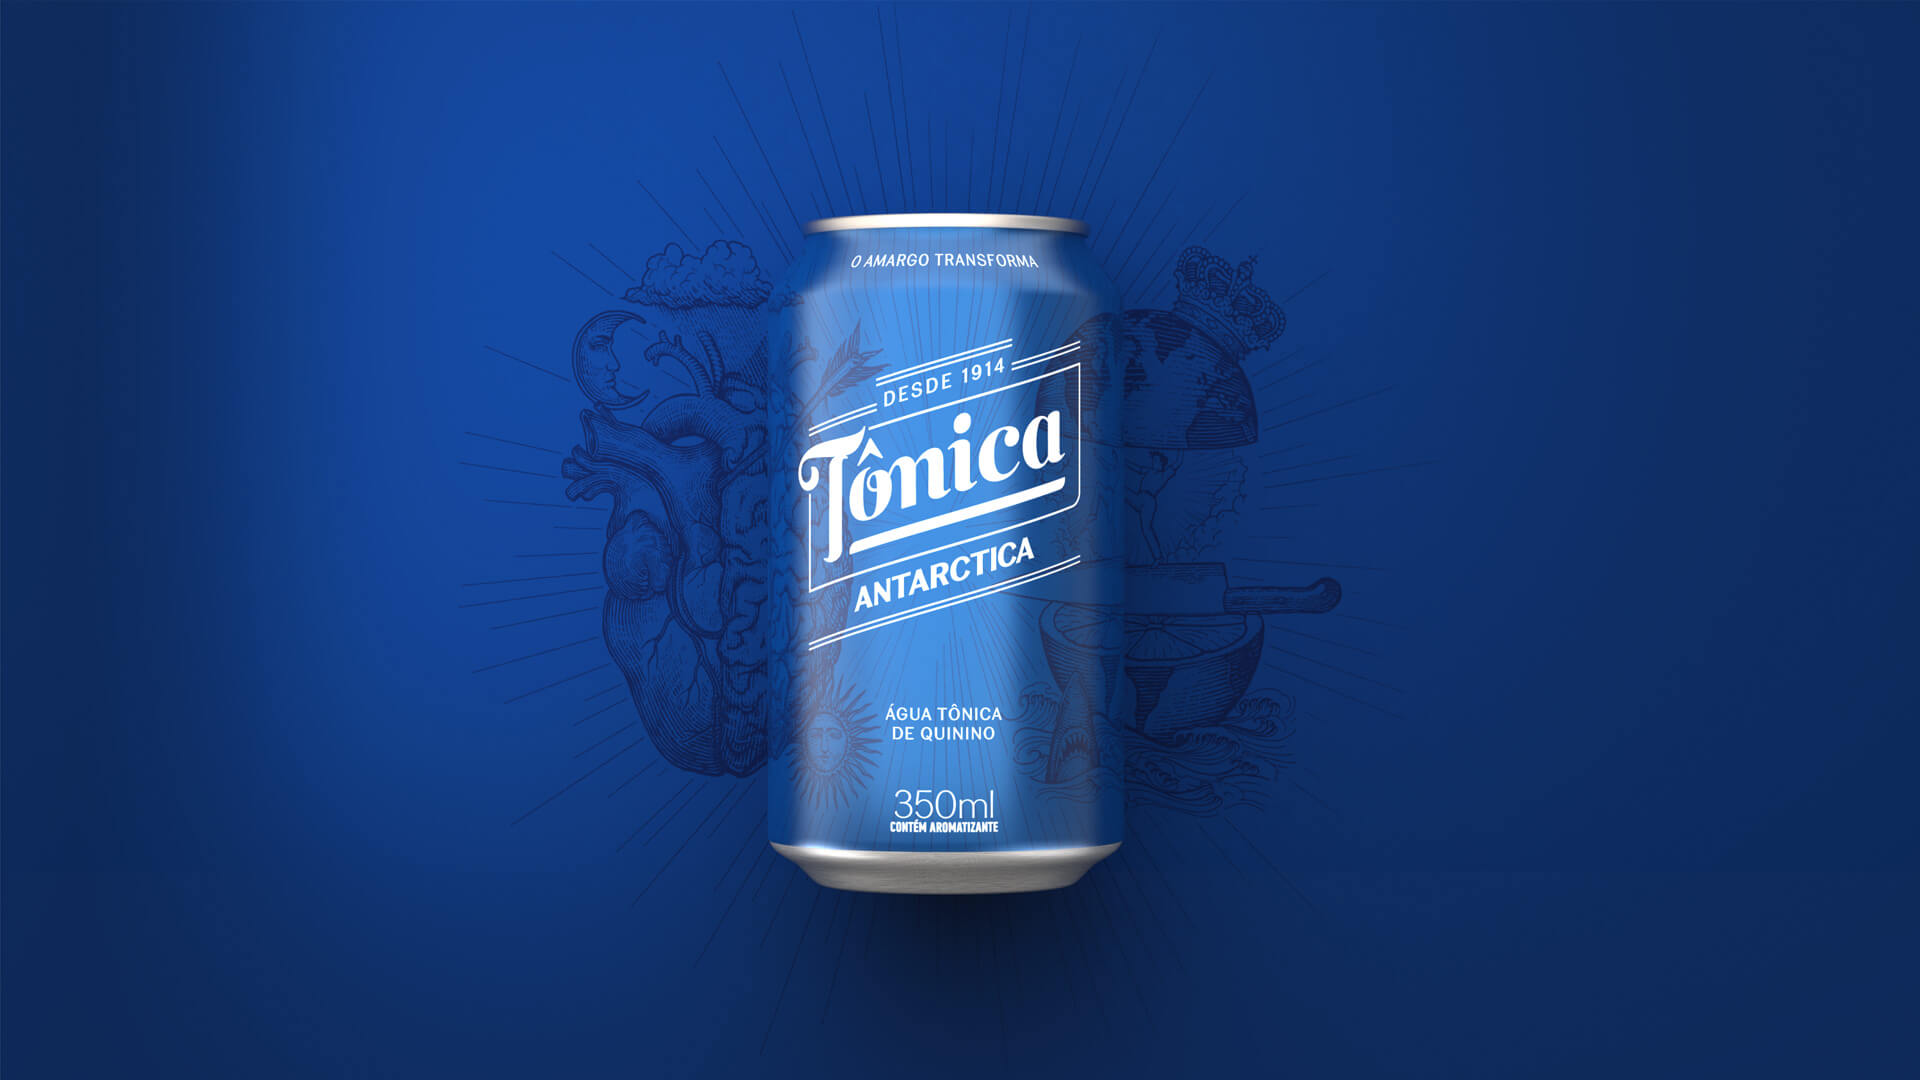tonica: (738, 200, 1147, 924)
